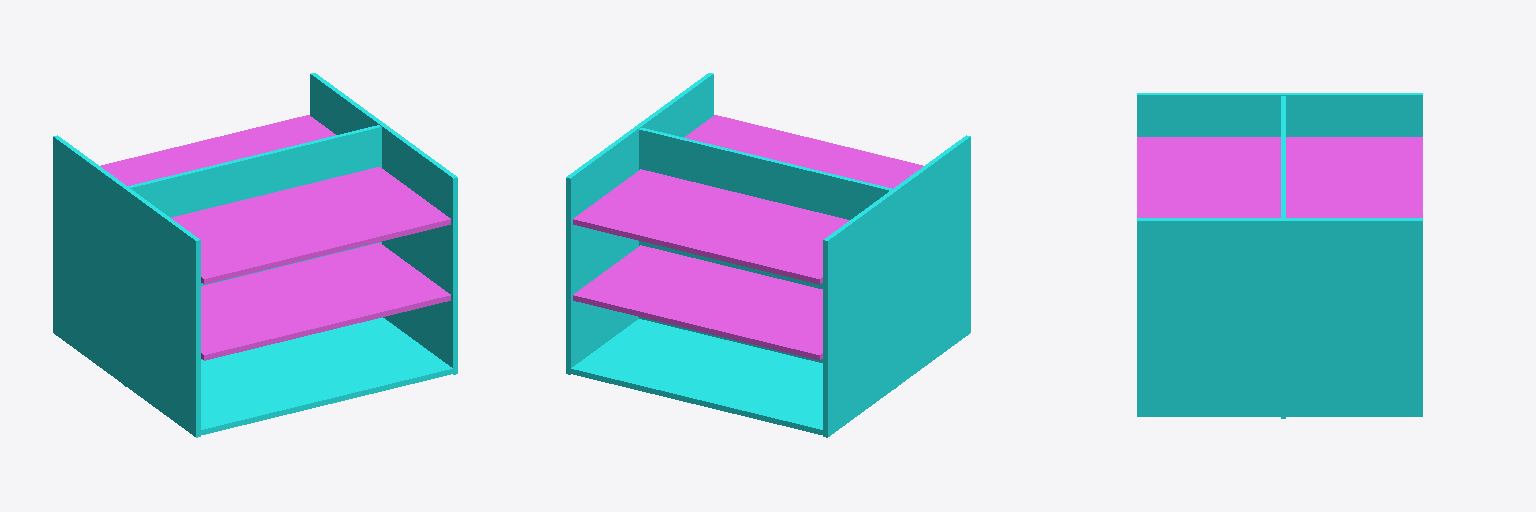
Rendered from shelf.obj.
The picture shows the model from 3 angles: view 1: azimuth 30°, elevation 25°; view 2: azimuth 150°, elevation 25°; view 3: azimuth 270°, elevation 25°; orthographic projection.
Visible parts, largest first — view 1: pCube3, pasted__pCube1 group2, pasted__pCube1 group1, pCube1, pasted__pCube3 group, pCube2; view 2: pCube3, pasted__pCube1 group2, pCube1, pasted__pCube1 group1, pasted__pCube3 group, pCube2; view 3: pasted__pCube3 group, pasted__pCube1 group2, pCube3, pCube2.
Part boxes in pixels (bbox=[...]): pCube3: bbox=[53, 135, 200, 437]; pasted__pCube1 group2: bbox=[100, 115, 450, 284]; pasted__pCube1 group1: bbox=[201, 243, 450, 360]; pCube1: bbox=[201, 317, 452, 434]; pasted__pCube3 group: bbox=[310, 73, 457, 374]; pCube2: bbox=[124, 125, 381, 386]; pCube3: bbox=[823, 135, 970, 437]; pasted__pCube1 group2: bbox=[573, 115, 923, 284]; pCube1: bbox=[571, 319, 822, 434]; pasted__pCube1 group1: bbox=[573, 245, 822, 360]; pasted__pCube3 group: bbox=[566, 73, 713, 374]; pCube2: bbox=[639, 128, 896, 388]; pasted__pCube3 group: bbox=[1137, 218, 1422, 416]; pasted__pCube1 group2: bbox=[1137, 137, 1422, 217]; pCube3: bbox=[1137, 93, 1422, 136]; pCube2: bbox=[1281, 96, 1285, 418].
Size of the model in its own units: 19.15 by 13.83 by 18.09.